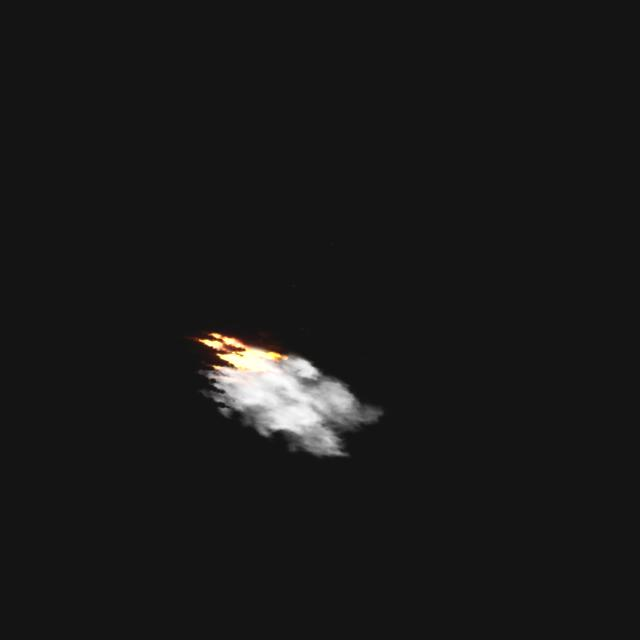fire: (194, 326, 290, 382)
smoke: (201, 343, 396, 468)
